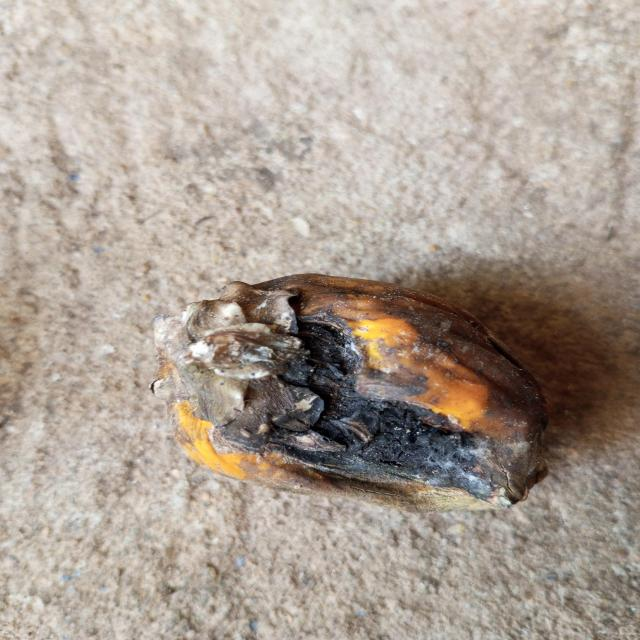damaged: (151, 274, 548, 510)
